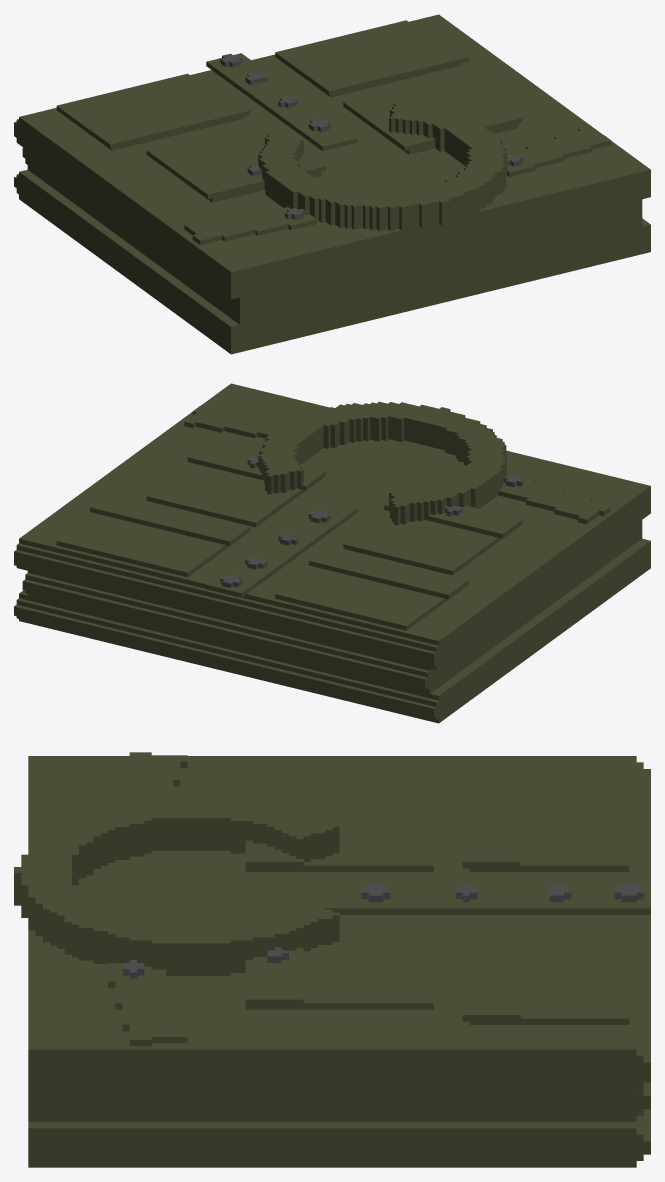
File: jacket_army.glb
3 renders of one model, top to bottom at view 1: azimuth 30°, elevation 25°; view 2: azimuth 150°, elevation 25°; view 3: azimuth 270°, elevation 25°, orthographic. The views are drawn at different scales.
Parts seen in each view (by area): view 1: jacket_army:compound; view 2: jacket_army:compound; view 3: jacket_army:compound.
Part boxes in pixels (x1,y1,x2,y2): jacket_army:compound: (14, 14, 650, 354); jacket_army:compound: (14, 383, 650, 723); jacket_army:compound: (14, 752, 650, 1167).
Size of the model in its own units: 0.384 by 0.092 by 0.352.
